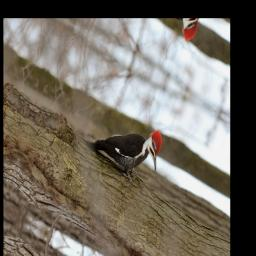Woodpecker: (73, 89, 167, 198)
